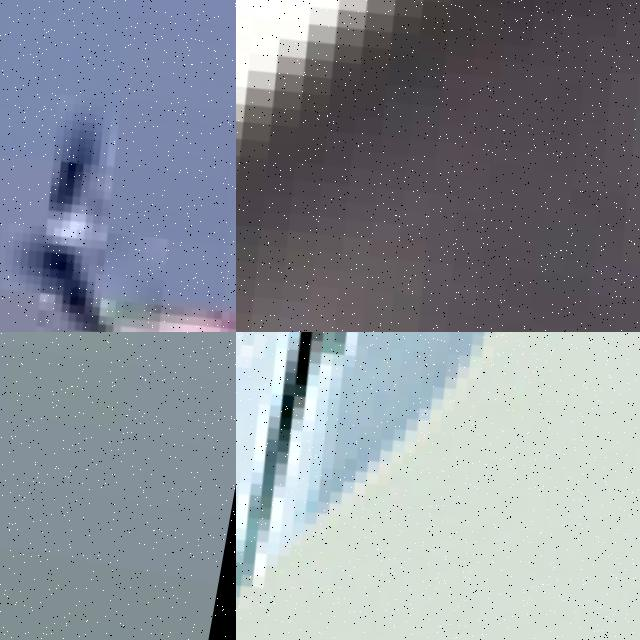drone: (236, 0, 640, 332), (236, 332, 640, 640), (0, 0, 236, 332)
